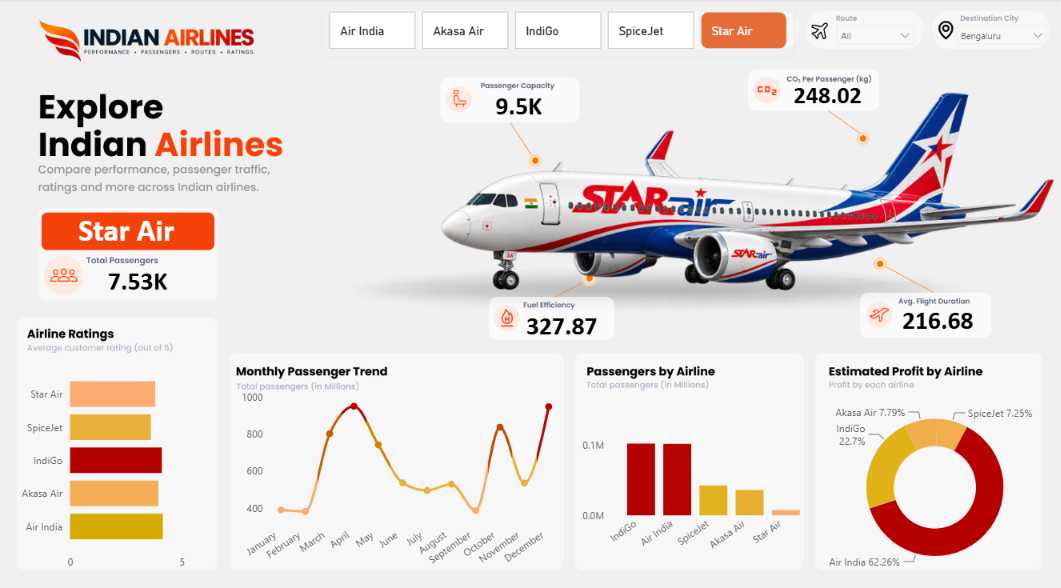

Layout of this report page (visuals, bound fields, positions):
{"tool":"powerbi","page":{"name":"Page 1","canvas":[1280,720],"ordinal":0},"visuals":[{"type":"barChart","fields":{"Category":["Flight_Data.Airline"],"Y":["Avg(Flight_Data.Customer_Rating)"]},"box":[15.7,432.9,240,265.7],"z":0},{"type":"clusteredColumnChart","fields":{"Category":["Flight_Data.Airline"],"Y":["Sum(Flight_Data.Passengers)"]},"box":[697.1,482.9,291.4,204.3],"z":1000},{"type":"lineChart","fields":{"Category":["Flight_Data.Date.Variation.Date Hierarchy.Year","Flight_Data.Date.Variation.Date Hierarchy.Quarter","Flight_Data.Date.Variation.Date Hierarchy.Month"],"Y":["Sum(Flight_Data.Passengers)"]},"box":[277.1,467.1,401.4,238.6],"z":2000},{"type":"donutChart","fields":{"Category":["Flight_Data.Airline"],"Y":["Sum(Flight_Data.Estimated_Profit_INR)"]},"box":[988.6,461.4,280,258.6],"z":3000},{"type":"advancedSlicerVisual","fields":{"Values":["Flight_Data.Airline"]},"box":[388.8,7.5,571.2,63.8],"z":4000},{"type":"image","box":[517.1,52.9,762.9,361.4],"z":5000},{"type":"cardVisual","fields":{"Data":["Min(Flight_Data.Airline)"]},"box":[56.7,247.8,191.1,58.9],"z":6000},{"type":"cardVisual","fields":{"Data":["Sum(Flight_Data.Passengers)"]},"box":[85,311.7,163.3,51.7],"z":7000},{"type":"cardVisual","fields":{"Data":["MeasuresTable.Seat Capacity"]},"box":[560,85,132.9,82.9],"z":8000},{"type":"cardVisual","fields":{"Data":["MeasuresTable.CO2 Per Passenger"]},"box":[932.6,71.7,132.9,82.9],"z":9000},{"type":"cardVisual","fields":{"Data":["MeasuresTable.Fuel Efficiency"]},"box":[612.1,349.5,132.9,82.9],"z":10000},{"type":"cardVisual","fields":{"Data":["MeasuresTable.Avg Flight Duration"]},"box":[1065,343.3,132.9,82.9],"z":11000},{"type":"slicer","fields":{"Values":["Flight_Data.Route"]},"box":[999,21.5,114,37],"z":12000},{"type":"slicer","fields":{"Values":["Flight_Data.Destination_City"]},"box":[1143.2,21.6,129.5,36.8],"z":13000}]}

Visuals, with their boxes in screenshot pixels (x1, y1, x2, y2), scaled from the page's 1280x720 canvas onto the 1061x588 screenshot:
barChart - Flight_Data.Airline x Avg(Flight_Data.Customer_Rating): detection(13, 354, 212, 571)
clusteredColumnChart - Flight_Data.Airline x Sum(Flight_Data.Passengers): detection(578, 394, 819, 561)
lineChart - Flight_Data.Date.Variation.Date Hierarchy.Year x Flight_Data.Date.Variation.Date Hierarchy.Quarter: detection(230, 381, 562, 576)
donutChart - Flight_Data.Airline x Sum(Flight_Data.Estimated_Profit_INR): detection(819, 377, 1052, 587)
advancedSlicerVisual - Flight_Data.Airline: detection(322, 6, 796, 58)
image: detection(429, 43, 1060, 338)
cardVisual - Min(Flight_Data.Airline): detection(47, 202, 205, 250)
cardVisual - Sum(Flight_Data.Passengers): detection(70, 255, 206, 297)
cardVisual - MeasuresTable.Seat Capacity: detection(464, 69, 574, 137)
cardVisual - MeasuresTable.CO2 Per Passenger: detection(773, 59, 883, 126)
cardVisual - MeasuresTable.Fuel Efficiency: detection(507, 285, 618, 353)
cardVisual - MeasuresTable.Avg Flight Duration: detection(883, 280, 993, 348)
slicer - Flight_Data.Route: detection(828, 18, 923, 48)
slicer - Flight_Data.Destination_City: detection(948, 18, 1055, 48)
